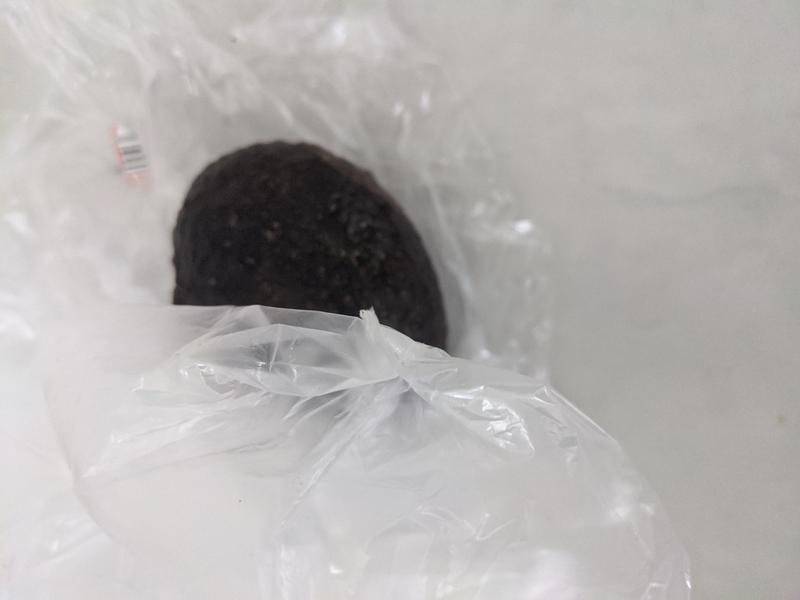avocado: (170, 142, 448, 353)
